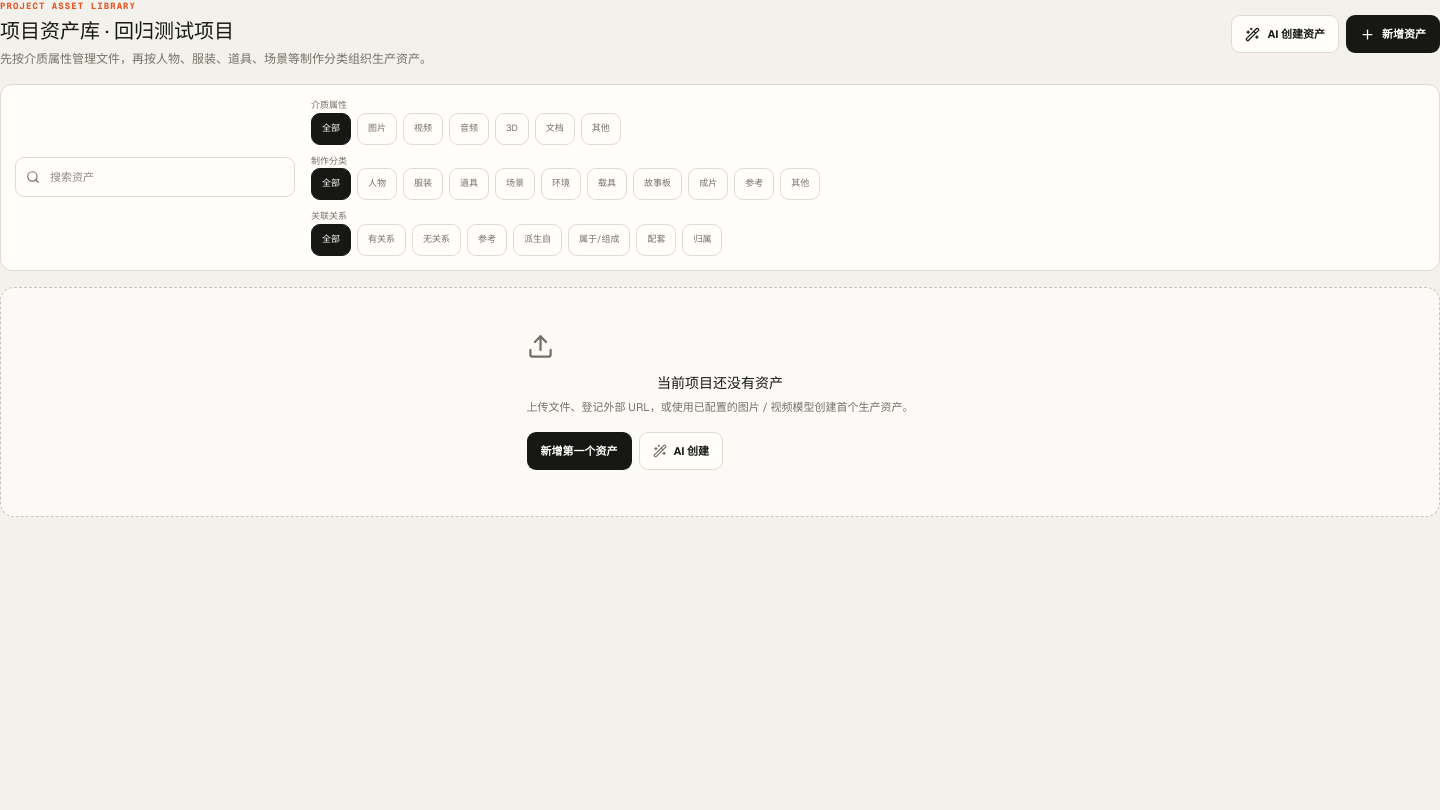
Test: 关键按钮点击回归 › AssetManager 点击“新增资产”显示资产 dialog
Click the button "新增资产" at {"x": 1393, "y": 34}, box [1346,15,1439,53]
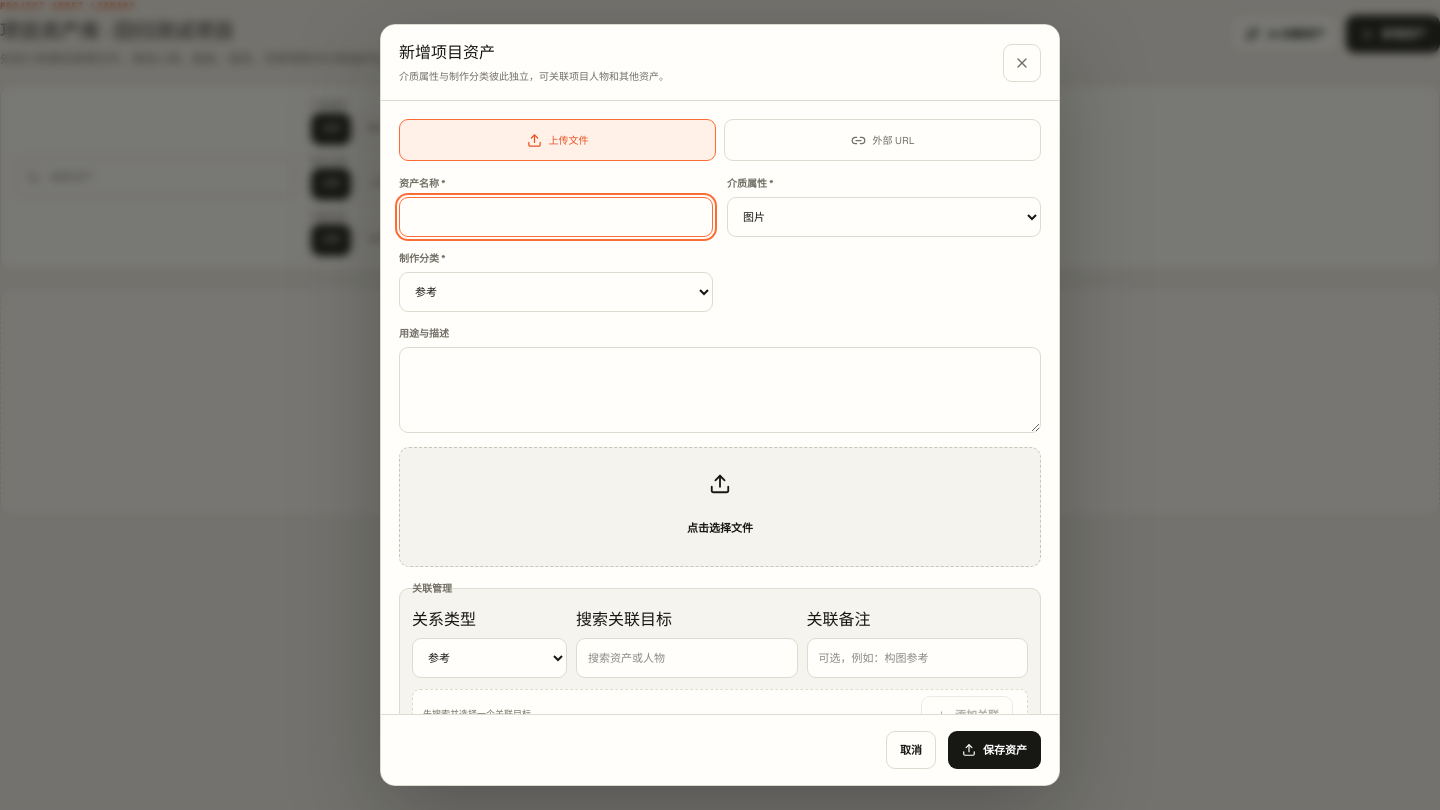
Expected: the dialog "新增项目资产" is shown, [380,24,1060,786]
Expected: the field labelled "资产名称 *" is shown, [399,197,713,237]
Expected: the dropdown labelled "介质属性 *" is shown, [727,197,1041,237]
